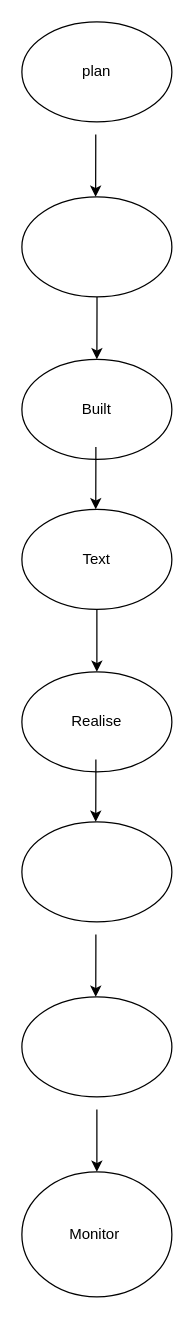
Image size: 194x1319. Some labels were removed from this diagram. Here are the shapes that lost their labels. From the top down, the centre of each, then its label:
pixel 96 246: Develop
pixel 96 871: Deploy
pixel 96 1046: Operator
